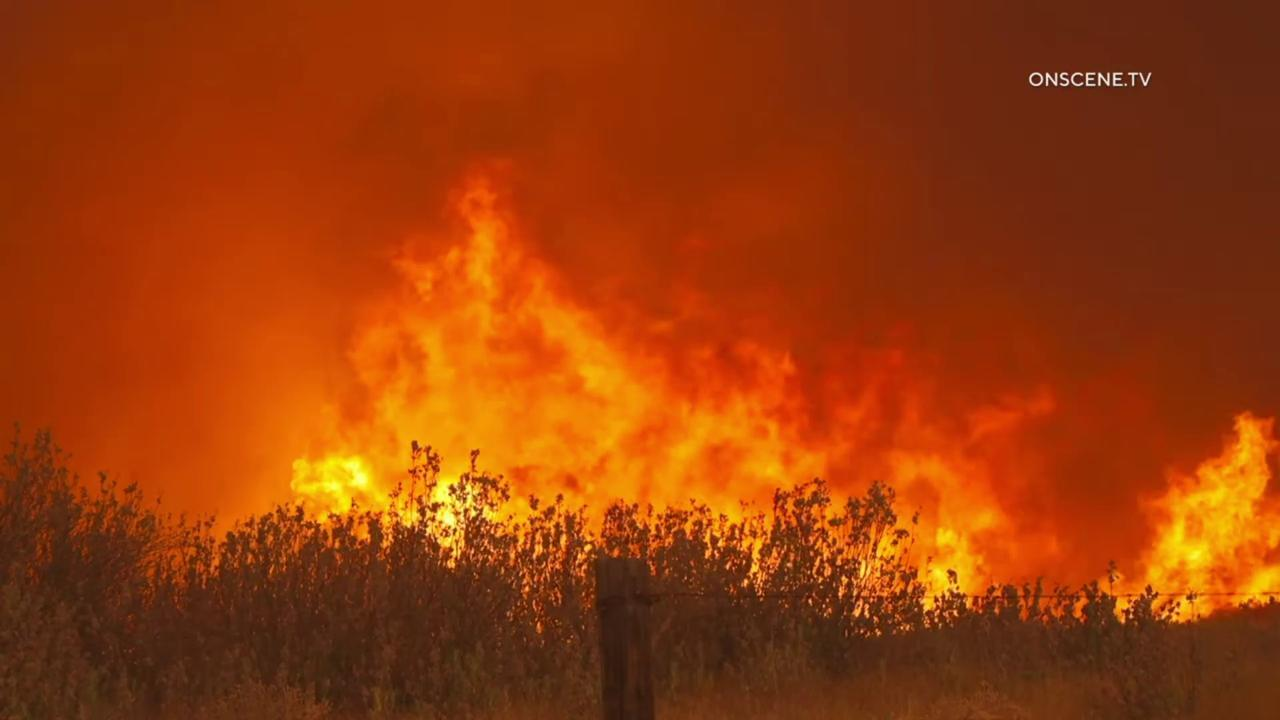fire: (283, 149, 1066, 638), (1068, 401, 1280, 629)
smoke: (0, 0, 1280, 636)
